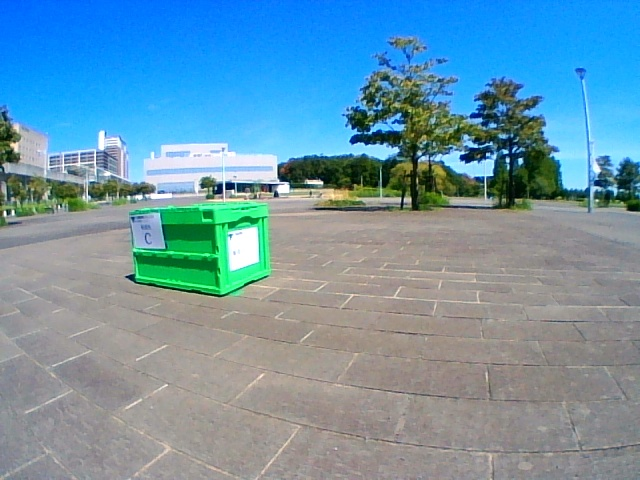green_box: (129, 203, 272, 295)
tag_c: (135, 215, 160, 249)
